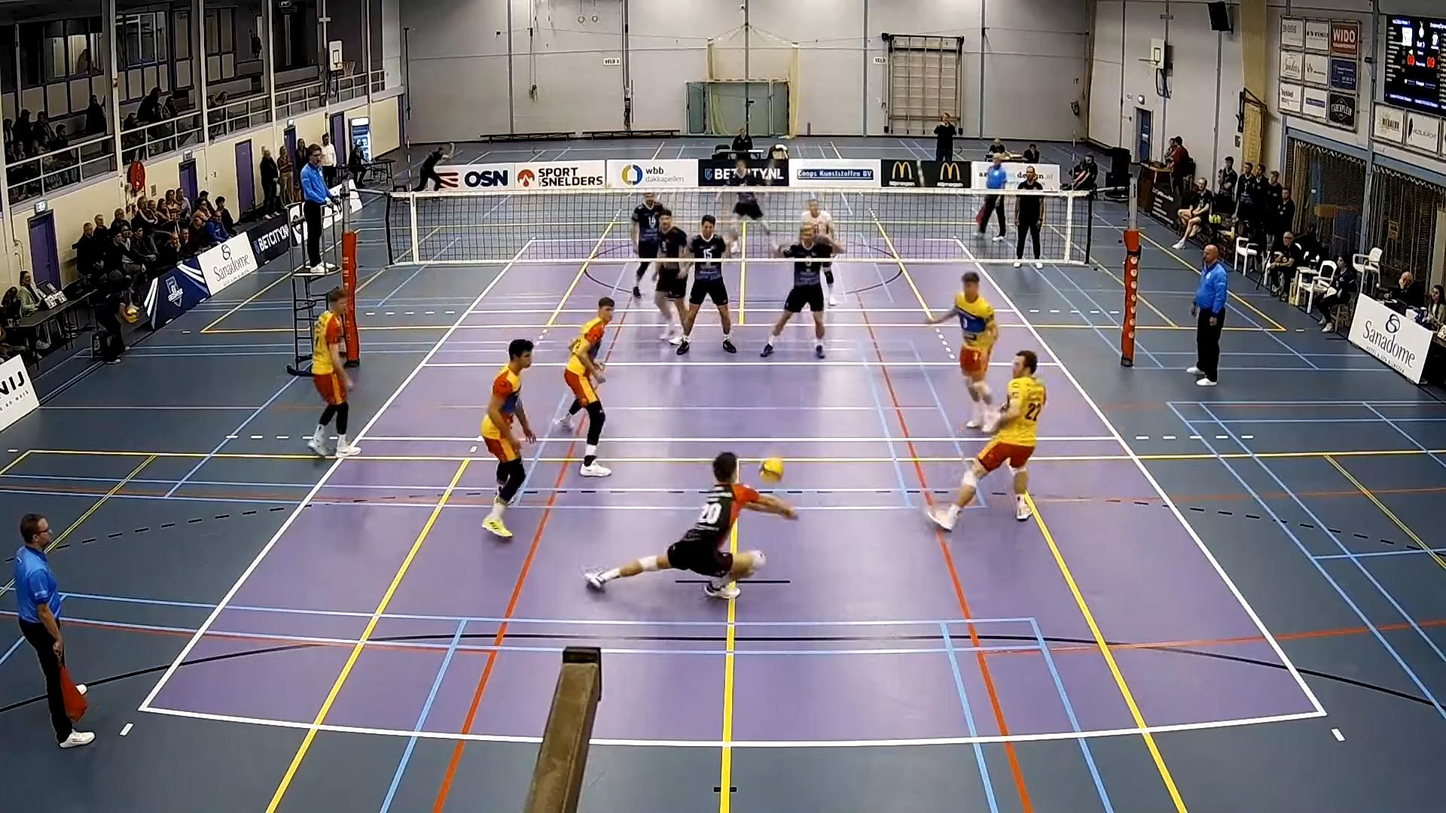ricezione: (580, 448, 817, 609)
